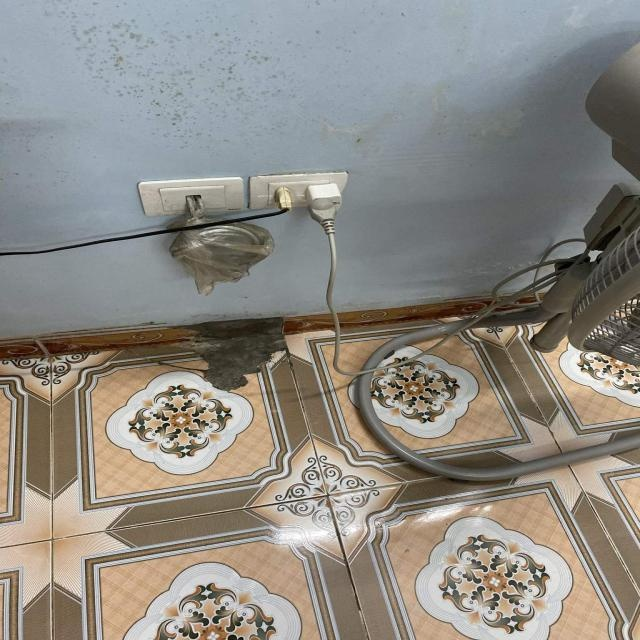outlet: (137, 176, 244, 217), (248, 170, 348, 210)
